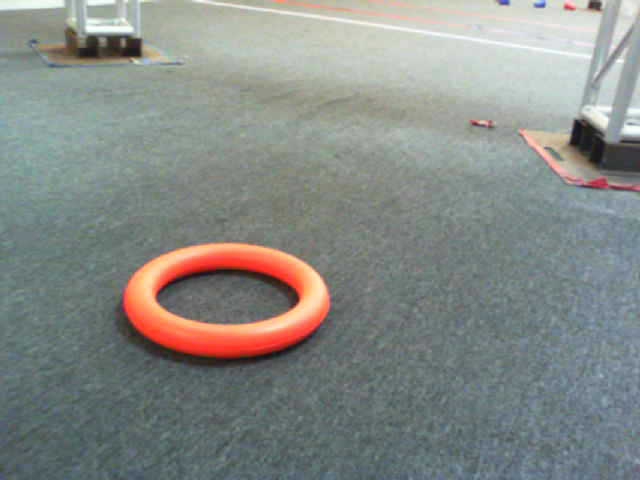Note: (126, 245, 336, 365)
